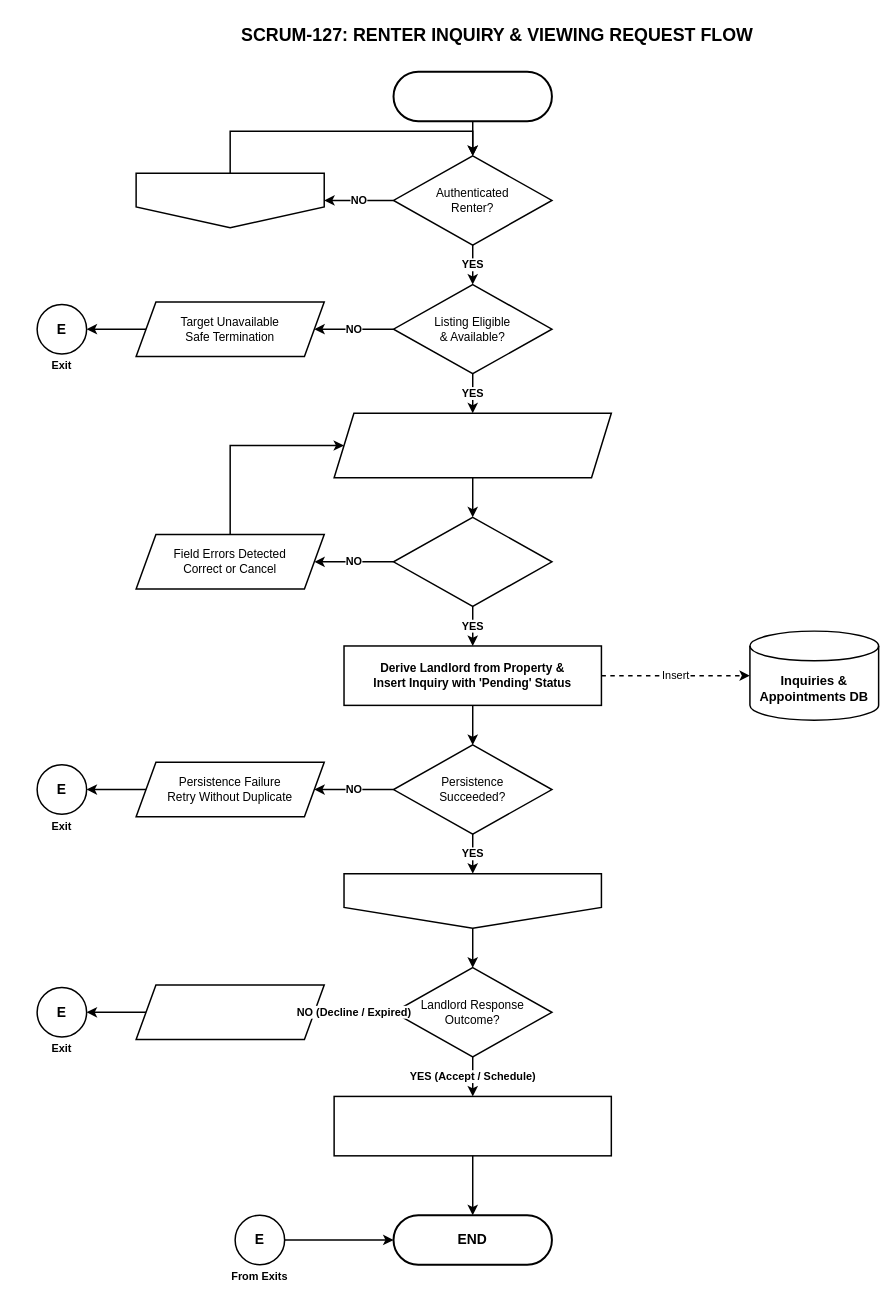
Some shapes in this 896 by 1303 pixel diagram are drawn without their labels. Each missing label, with the box of its shape:
Capture Inquiry Message, Move-in Date & Viewing Appointment Slot: (333, 412, 612, 478)
Decline / 48h Timeout Notice Status Updated & Renter Notified: (135, 984, 325, 1040)
Guest: SCRUM-121 Gate Preserve Listing & Action: (135, 172, 325, 228)
Inputs Valid & Within Rate Limits?: (392, 516, 552, 607)
Notify Owning Landlord of New Inquiry / Viewing Request: (343, 872, 602, 928)
Persist Landlord Response & Notify Renter of Status / Schedule: (333, 1095, 612, 1156)
START: (392, 70, 552, 122)
